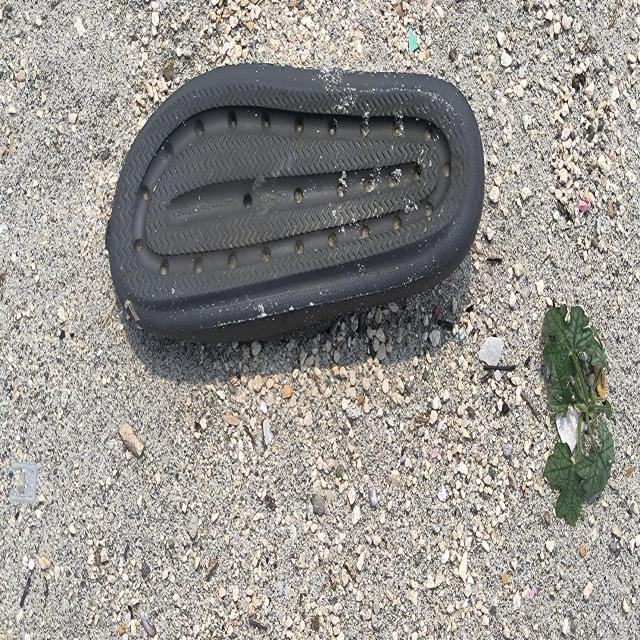rubber_waste: (109, 63, 487, 348)
